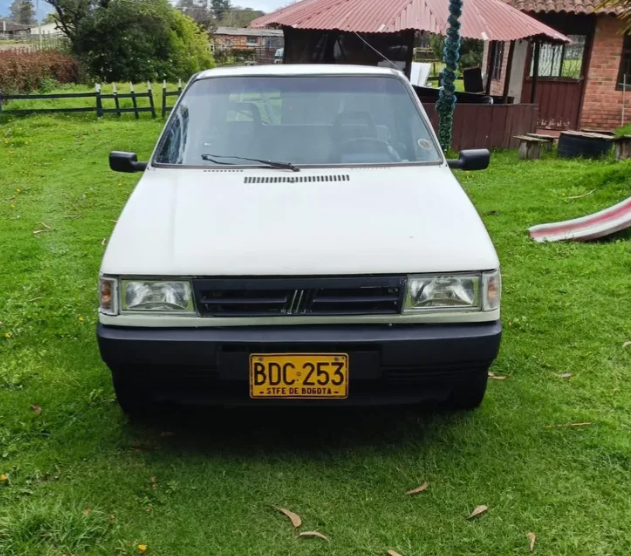placa: (250, 352, 347, 399)
